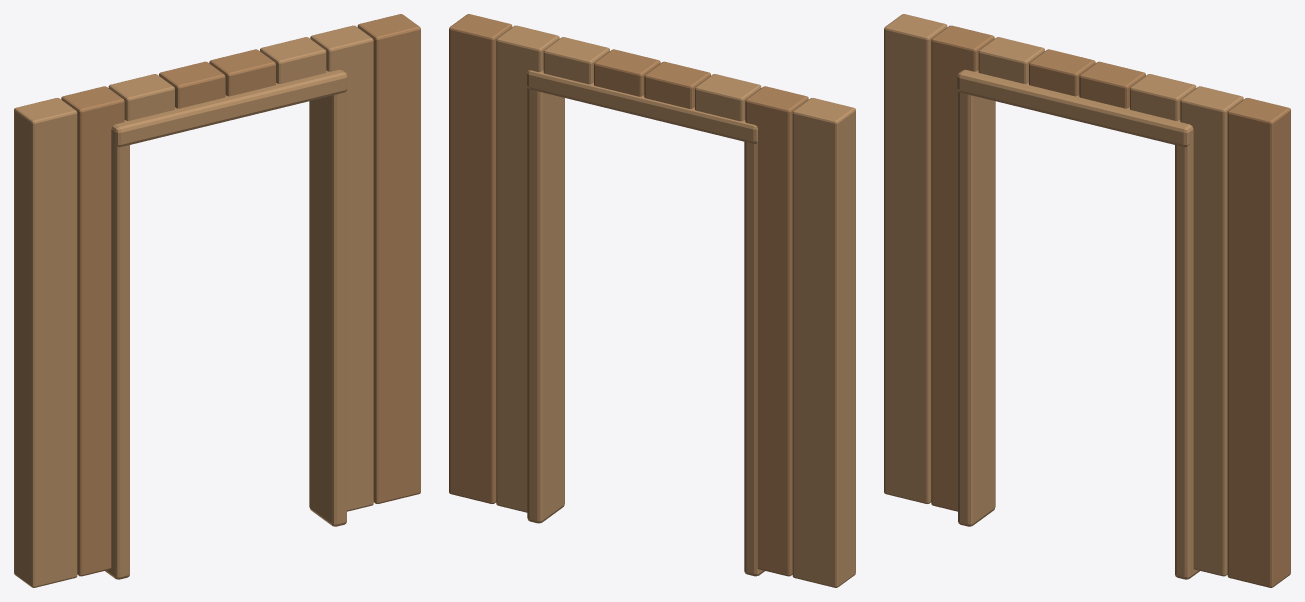
Rendered from wall_door_timber_2m.glb.
The picture shows the model from 3 angles, left to right: view 1: azimuth 30°, elevation 25°; view 2: azimuth 150°, elevation 25°; view 3: azimuth 330°, elevation 25°; orthographic projection.
Parts seen in each view (by area): view 1: wall_door_timber_2m; view 2: wall_door_timber_2m; view 3: wall_door_timber_2m.
Part boxes in pixels (bbox=[...]): wall_door_timber_2m: bbox=[14, 14, 420, 587]; wall_door_timber_2m: bbox=[449, 14, 855, 587]; wall_door_timber_2m: bbox=[884, 14, 1290, 587].
Size of the model in its own units: 1.81 by 2.12 by 0.22.
